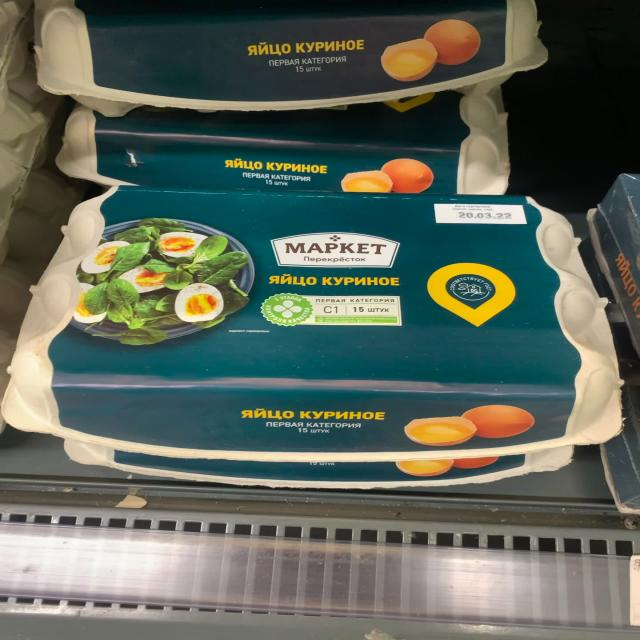egg box: (2, 184, 622, 459), (28, 1, 550, 112), (50, 100, 512, 195)
